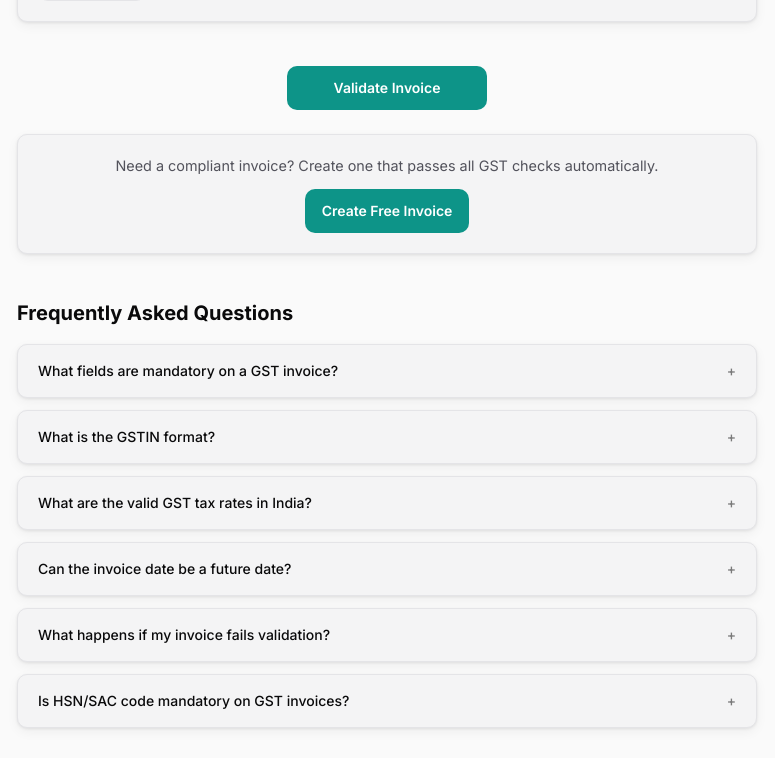
Test: InvoiceValidatorPage › toggles FAQ answer on click
The width and height of the screenshot is (775, 758).
(page scrolled)
Click the button "What fields are mandatory on a GST invoice?": [188, 370] box 18,345 -> 756,397
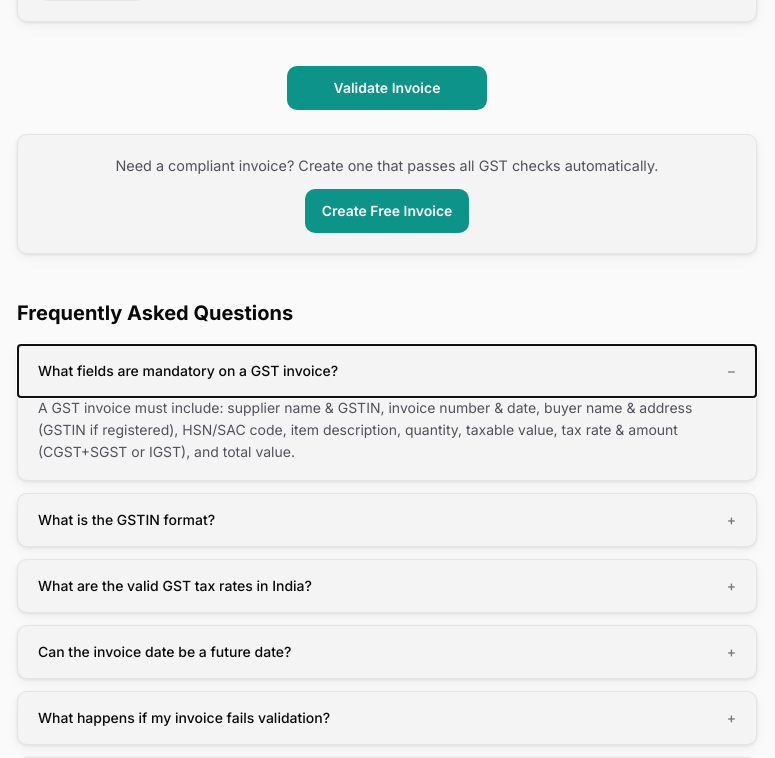
Now the text "supplier name & GSTIN" is shown, box 38,399 -> 692,460
